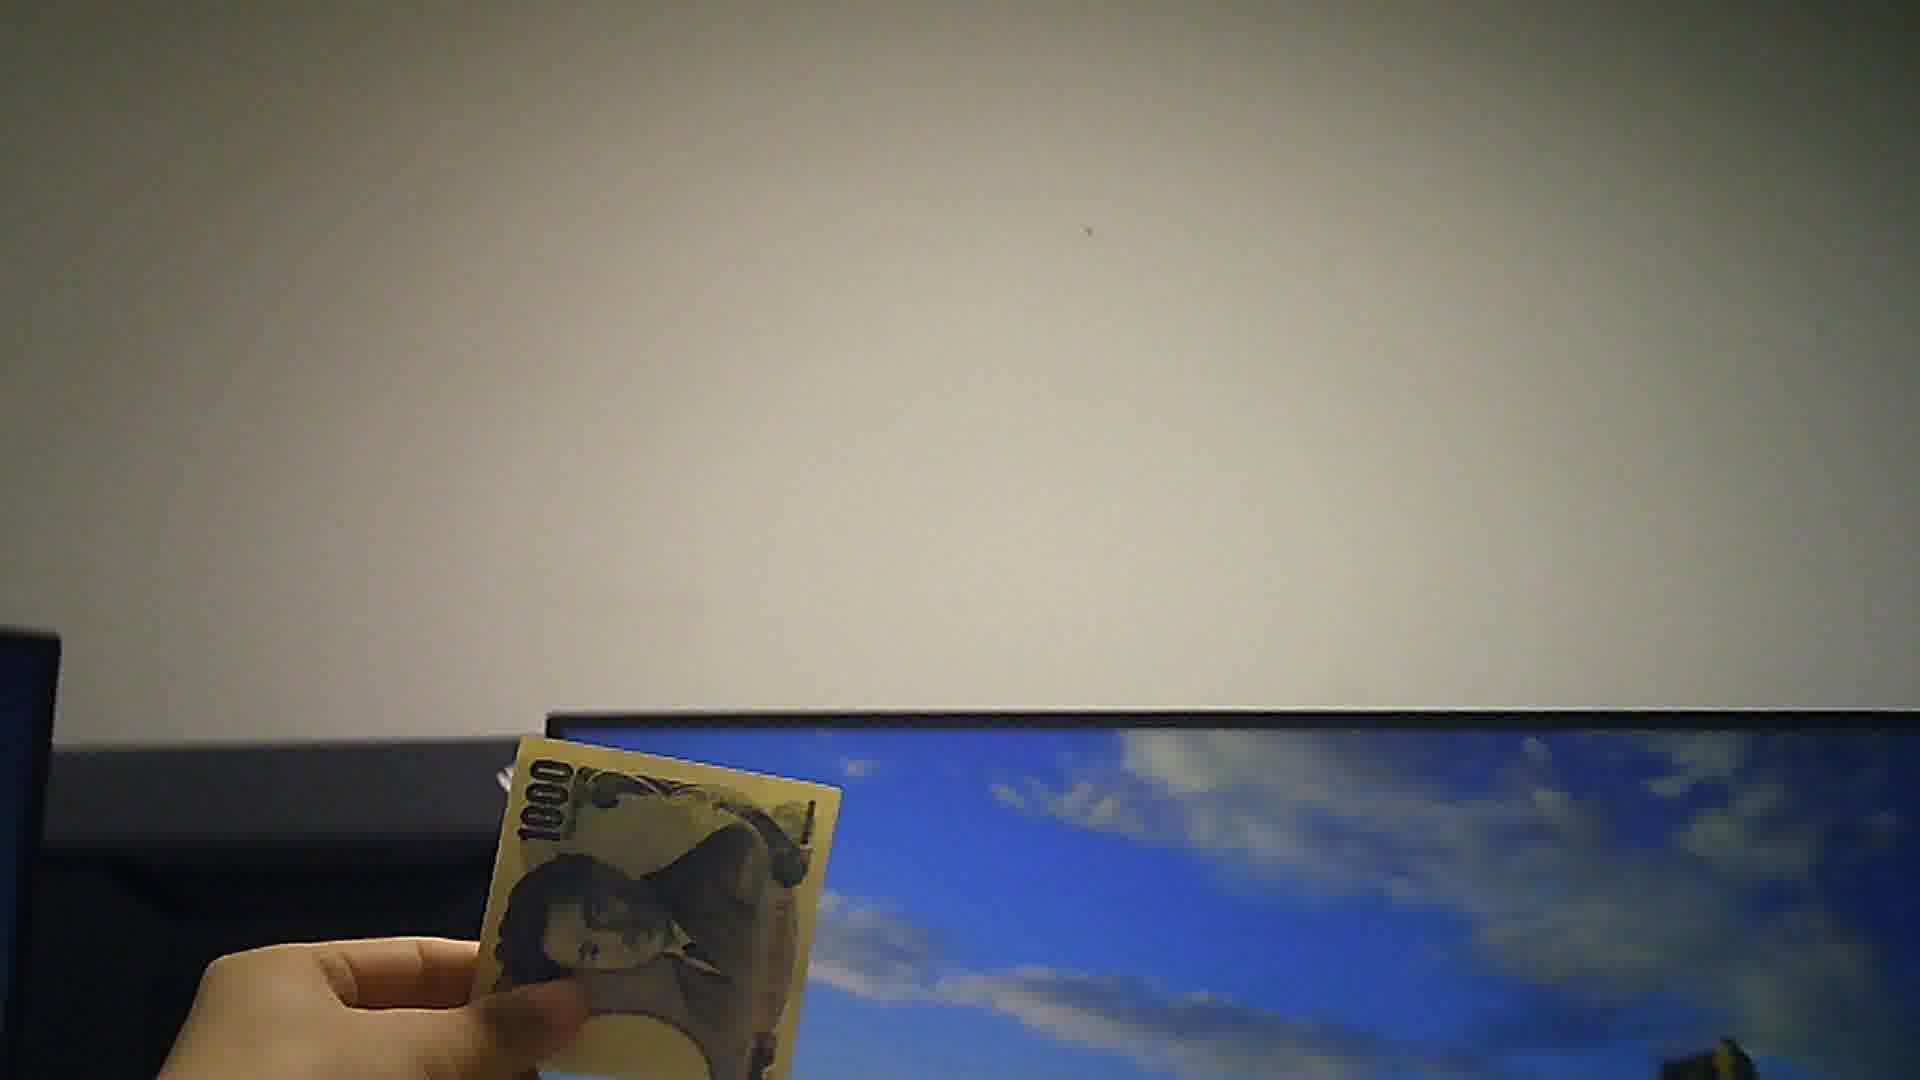1,000 Yen: (452, 727, 840, 1079)
